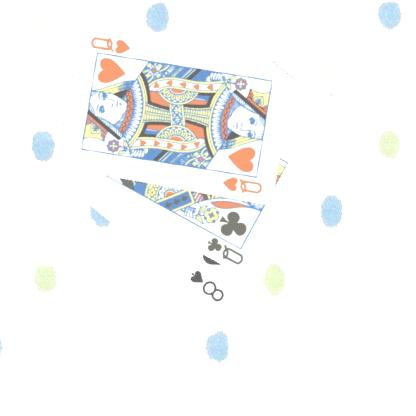8S: (188, 268, 228, 304)
QC: (206, 235, 247, 266)
QH: (90, 34, 137, 61), (222, 174, 266, 196)
